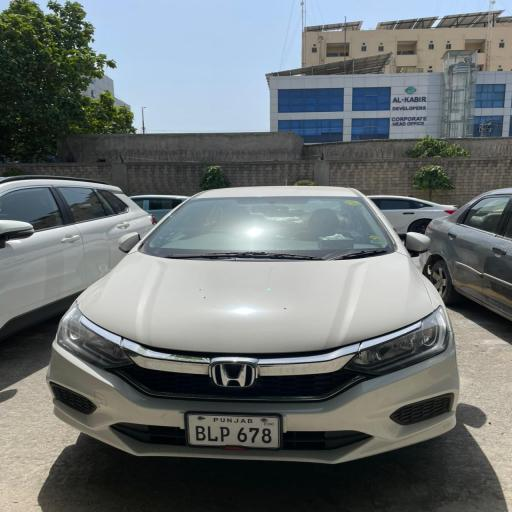bnu_sticker: (345, 198, 364, 208)
number_plate: (187, 414, 286, 449)
